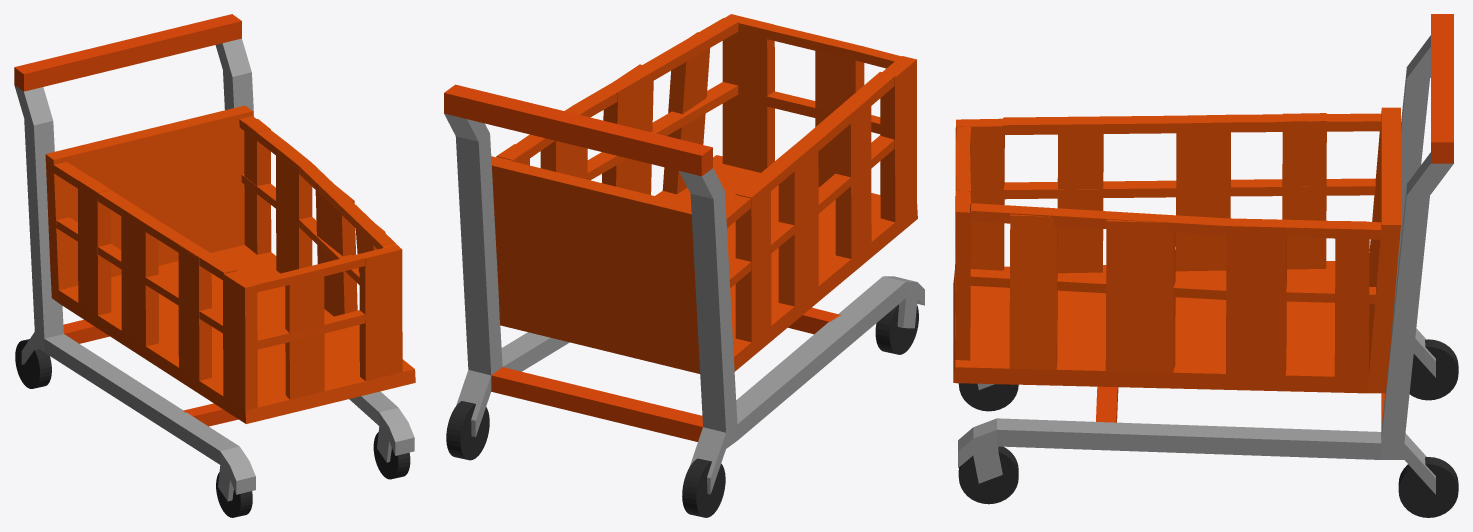
The model's file is shoppingCart.fbx.
The picture shows the model from 3 angles, left to right: view 1: azimuth 30°, elevation 25°; view 2: azimuth 150°, elevation 25°; view 3: azimuth 270°, elevation 25°; orthographic projection. The views are drawn at different scales.
Visible parts, largest first — view 1: Cube.001, Cube; view 2: Cube.001, Cube; view 3: Cube.001, Cube.
Part boxes in pixels (x1,y1,x2,y2): Cube.001: (45, 105, 415, 423); Cube: (14, 14, 414, 517); Cube.001: (491, 14, 917, 373); Cube: (444, 84, 924, 517); Cube.001: (953, 107, 1400, 393); Cube: (958, 14, 1458, 517).
Size of the model in its own units: 236 by 324 by 392.
